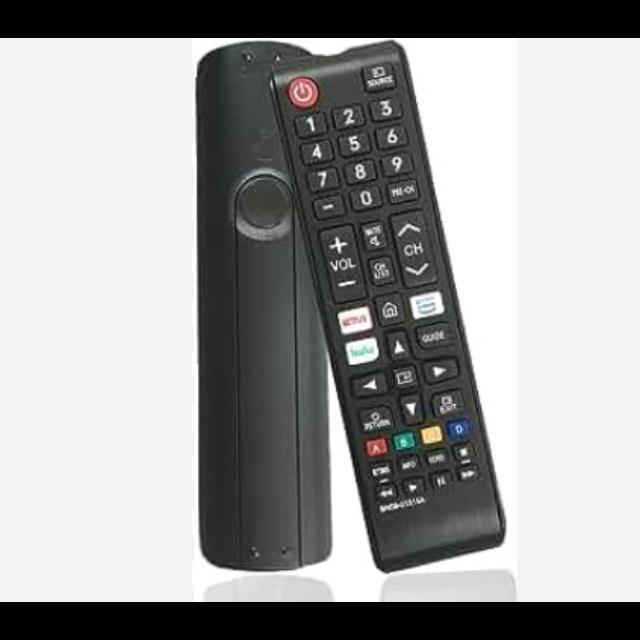TV-Remote-Control: (271, 43, 508, 578), (195, 41, 333, 574)
